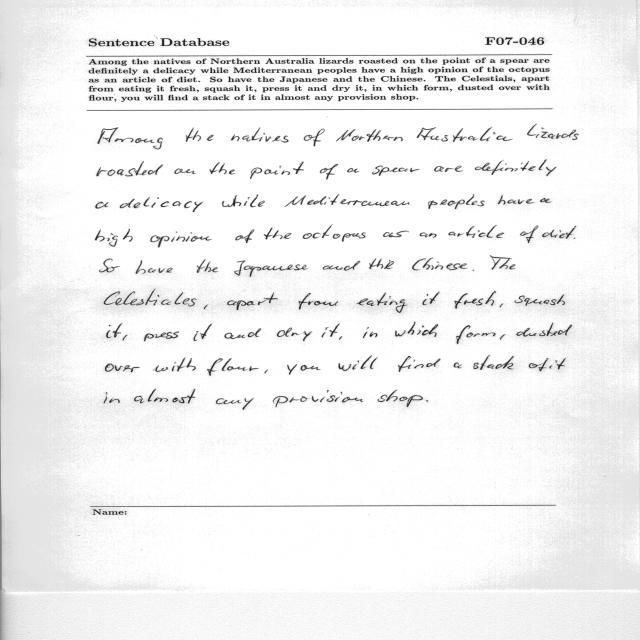word: (285, 194, 410, 207), (104, 289, 197, 306), (273, 390, 363, 407), (417, 127, 513, 142), (98, 127, 163, 149), (475, 160, 557, 176), (120, 197, 203, 212), (234, 261, 307, 277), (357, 292, 408, 313), (303, 225, 365, 242), (97, 162, 163, 177), (250, 161, 304, 179), (207, 358, 259, 376), (150, 232, 212, 247), (134, 389, 196, 404), (336, 129, 403, 142), (231, 128, 289, 143), (227, 293, 278, 310), (428, 194, 485, 209), (527, 124, 579, 140), (377, 390, 423, 407), (517, 323, 572, 337), (456, 325, 496, 344), (455, 291, 496, 309), (449, 225, 505, 238), (398, 356, 441, 372), (96, 229, 133, 247), (412, 258, 467, 270), (395, 322, 438, 337), (299, 293, 338, 309), (339, 355, 377, 371), (515, 294, 565, 306), (155, 358, 196, 372), (473, 356, 514, 370), (222, 195, 265, 208), (372, 165, 420, 176), (136, 260, 173, 274), (542, 226, 577, 239), (277, 328, 312, 341), (186, 127, 214, 142), (225, 328, 262, 339), (216, 398, 253, 409), (490, 255, 515, 270), (323, 261, 360, 271), (287, 364, 320, 375), (304, 129, 325, 146), (144, 332, 179, 342), (498, 196, 534, 205), (264, 228, 291, 240), (520, 226, 538, 243), (194, 324, 212, 341), (210, 162, 235, 174), (197, 259, 218, 273), (105, 364, 140, 372), (99, 259, 120, 272), (320, 164, 338, 179), (236, 229, 255, 243), (322, 324, 340, 338), (369, 259, 394, 269), (529, 358, 548, 371), (422, 292, 440, 305), (107, 324, 122, 338), (549, 358, 566, 369), (104, 393, 120, 404), (434, 166, 463, 172), (383, 231, 409, 237), (363, 327, 377, 338), (174, 168, 196, 174), (420, 233, 437, 238), (96, 202, 109, 208), (348, 168, 360, 173), (540, 198, 552, 203), (454, 363, 461, 369), (500, 334, 505, 340), (123, 335, 127, 341), (204, 306, 207, 310), (500, 304, 503, 308), (339, 336, 342, 340), (265, 370, 268, 374), (426, 400, 428, 402), (574, 238, 576, 239), (473, 270, 474, 271)
